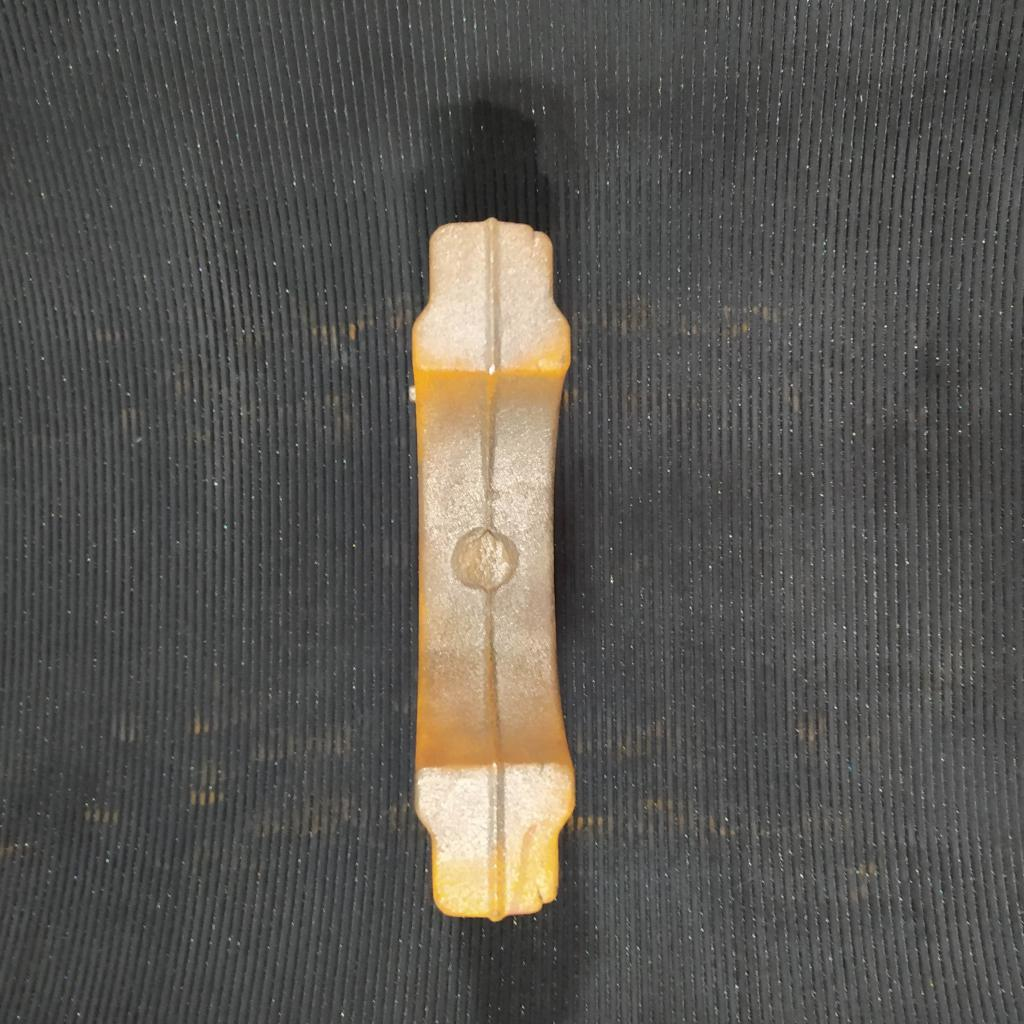rechupe: (529, 225, 545, 257), (536, 886, 553, 915)
